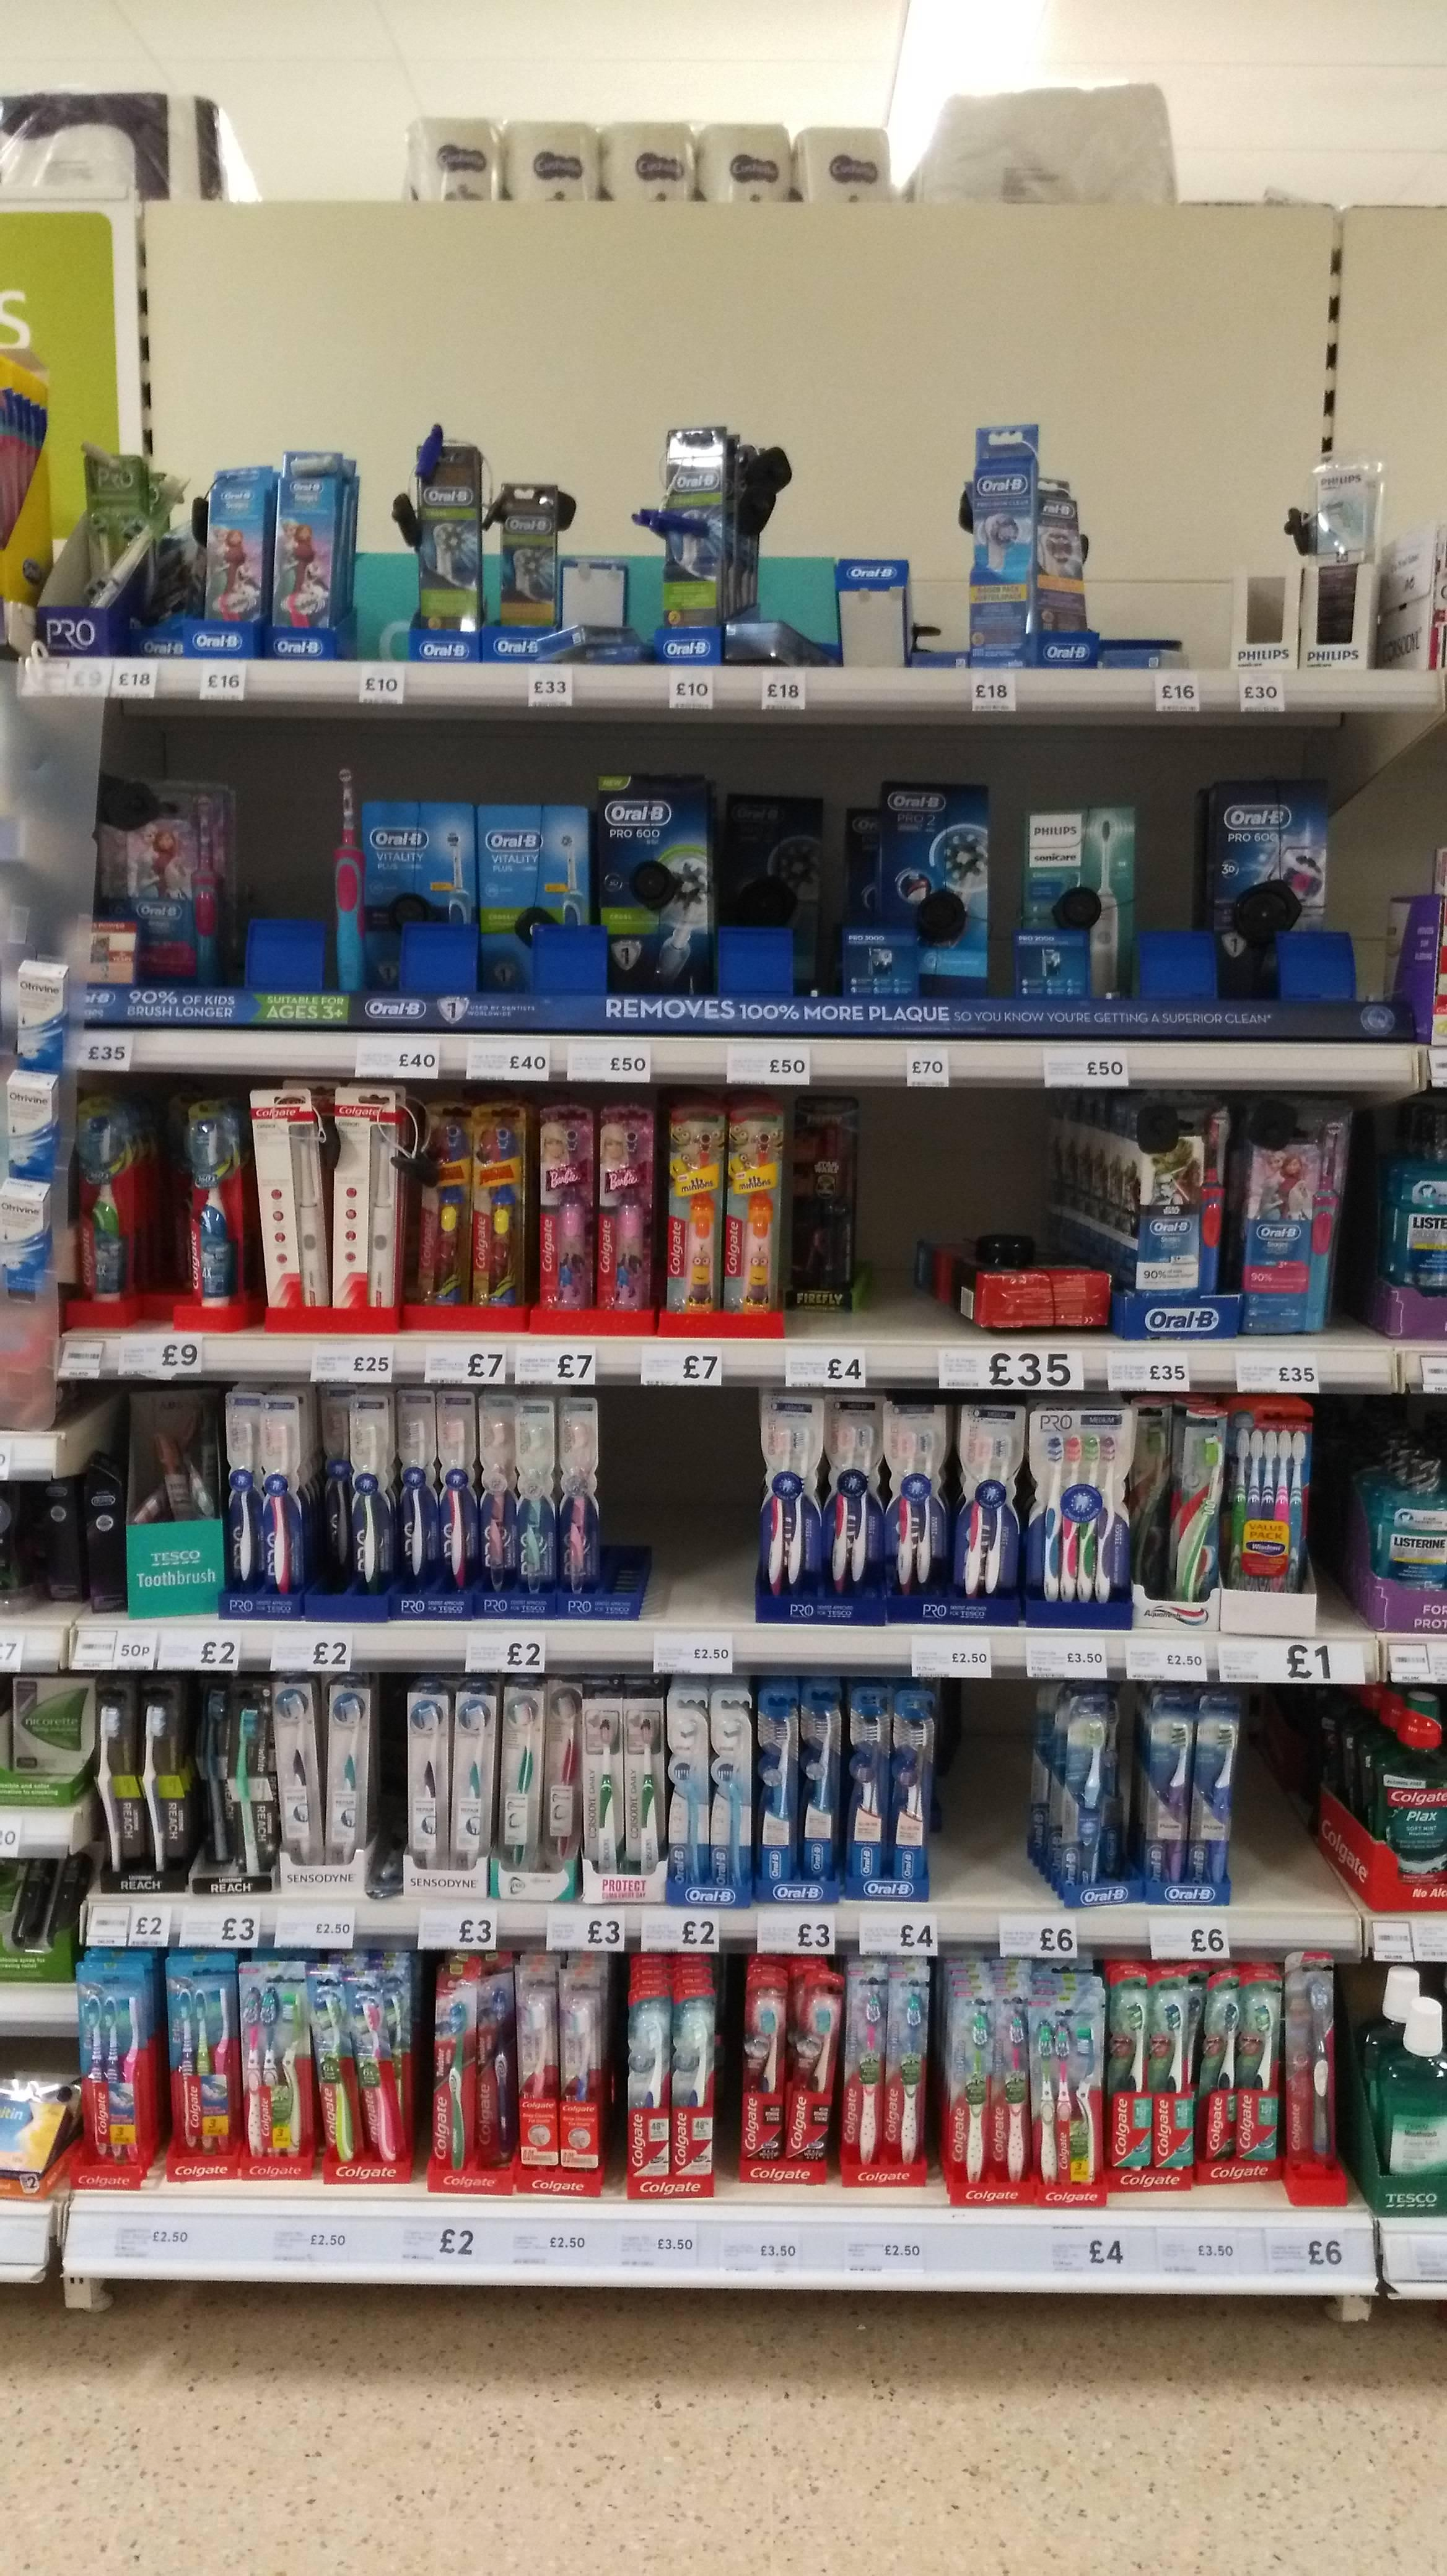empty: (854, 1104, 952, 1338), (632, 1430, 748, 1622), (923, 1709, 1040, 1902), (1240, 1714, 1355, 1907)
